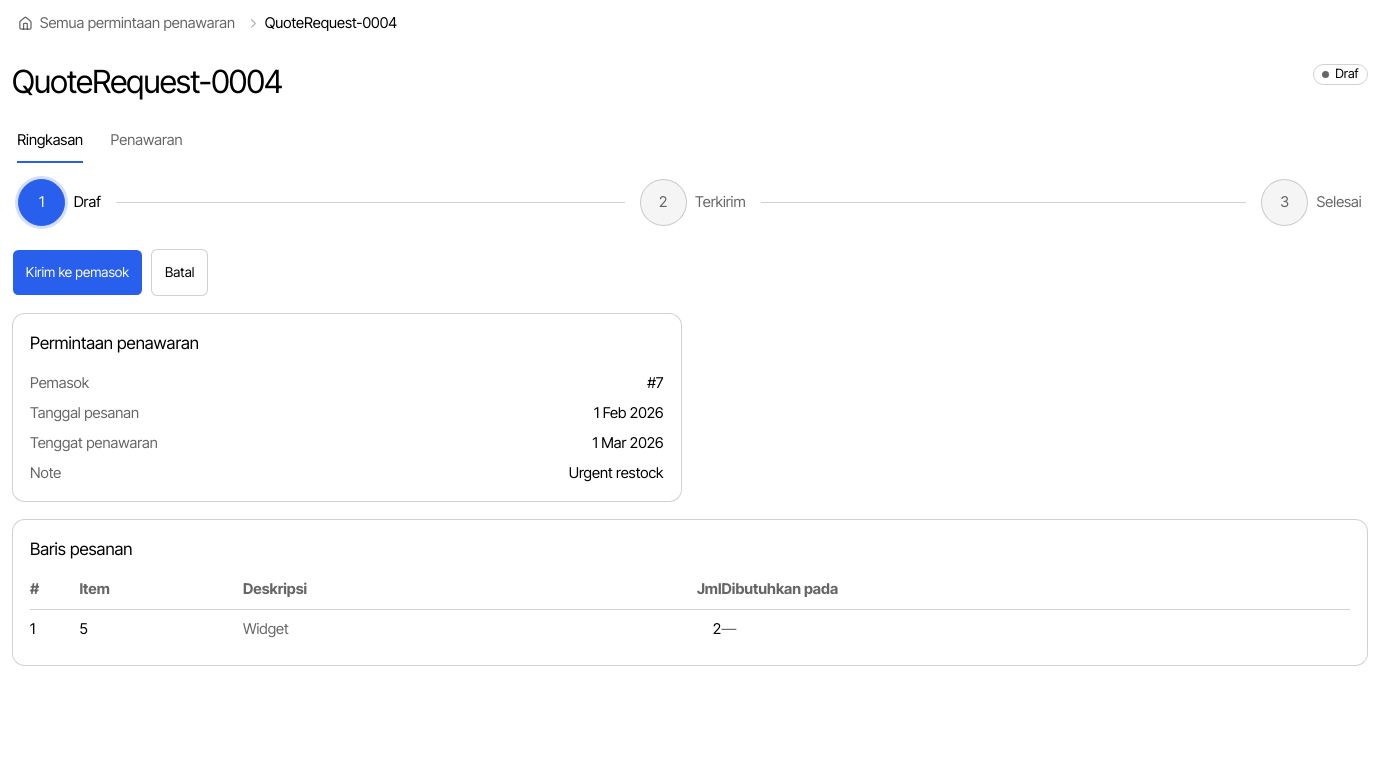
Test: SupplierQuoteRequestDetail extra2 › shows the accepted-quote hint when a quote was accepted
The width and height of the screenshot is (1378, 768).
Click the tab "Penawaran" at (147, 141), box [110, 117, 184, 164]
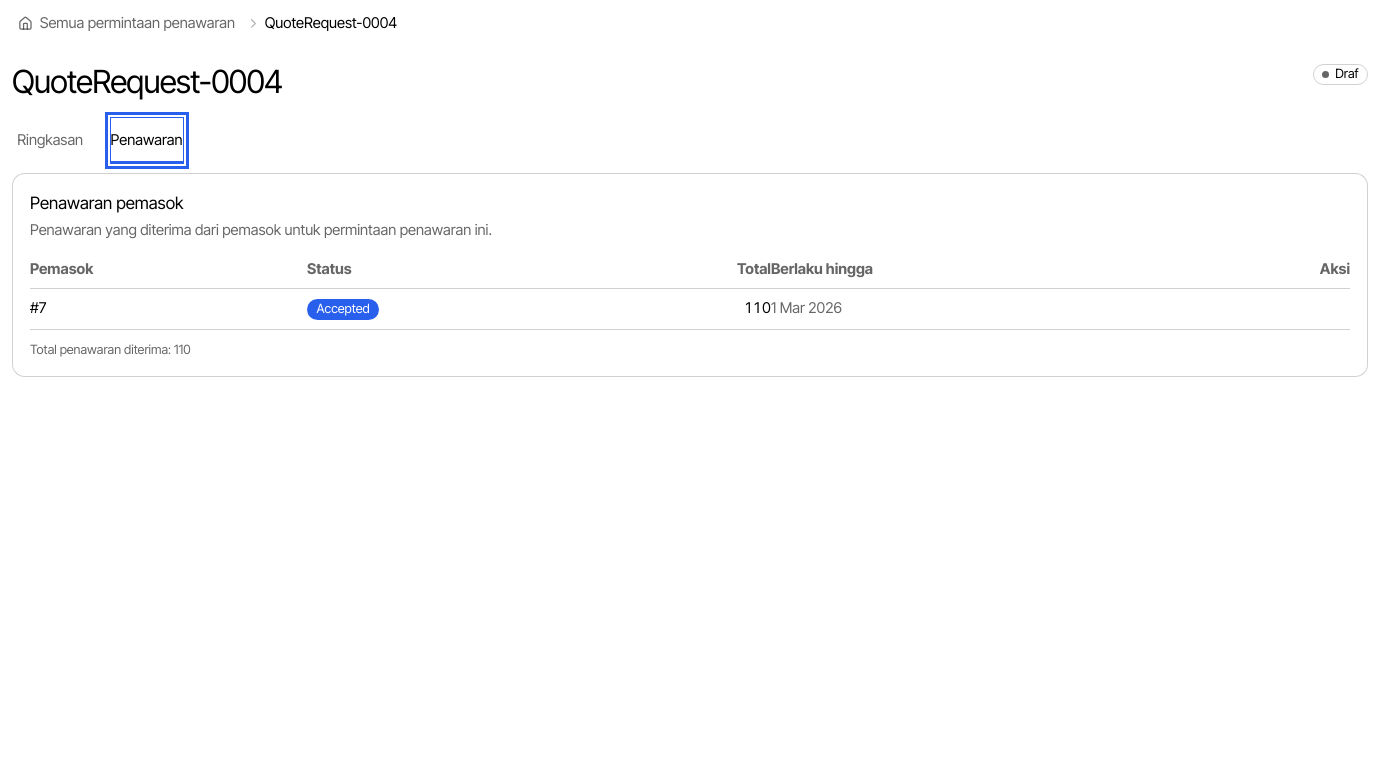
expect the text "Total penawaran diterima: 110" is shown: met, box [30, 342, 190, 357]
